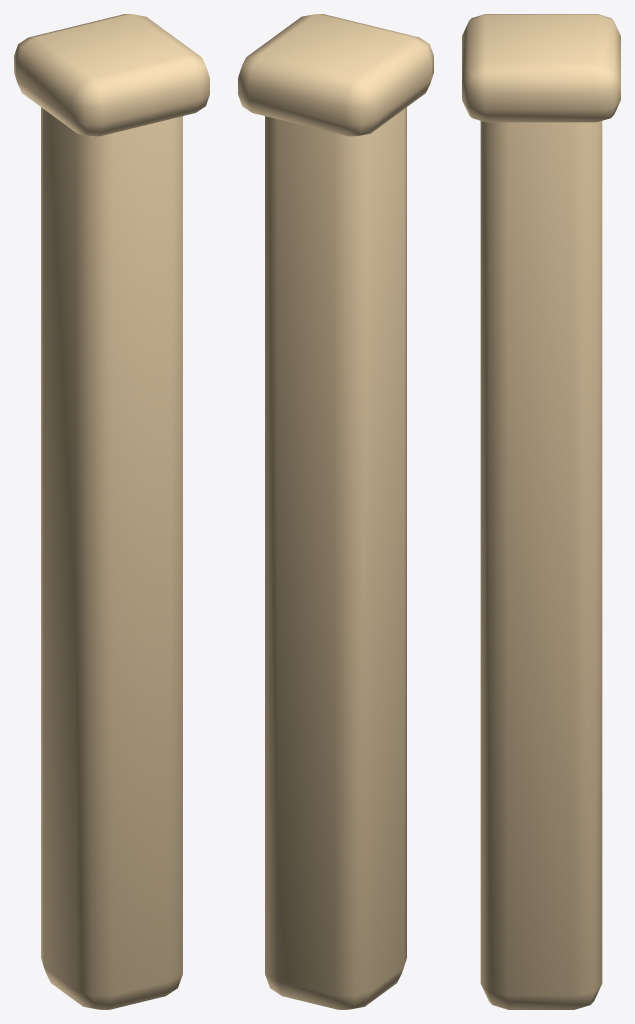
Rendered from fence-picket-cream-post.glb.
3 views of the same model, side by side, from view 1: azimuth 30°, elevation 25°; view 2: azimuth 150°, elevation 25°; view 3: azimuth 270°, elevation 25° (orthographic).
Visible parts, largest first — view 1: body; view 2: body; view 3: body.
Part boxes in pixels (box(x1,y1,x2,y2)): body: box(14, 14, 209, 1009); body: box(238, 14, 433, 1009); body: box(462, 14, 620, 1009).
Bounding box in the file's own units: 0.17 × 1.13 × 0.17.
